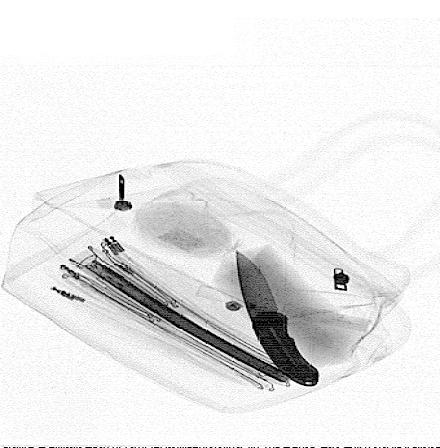Knife: (235, 247, 320, 386)
